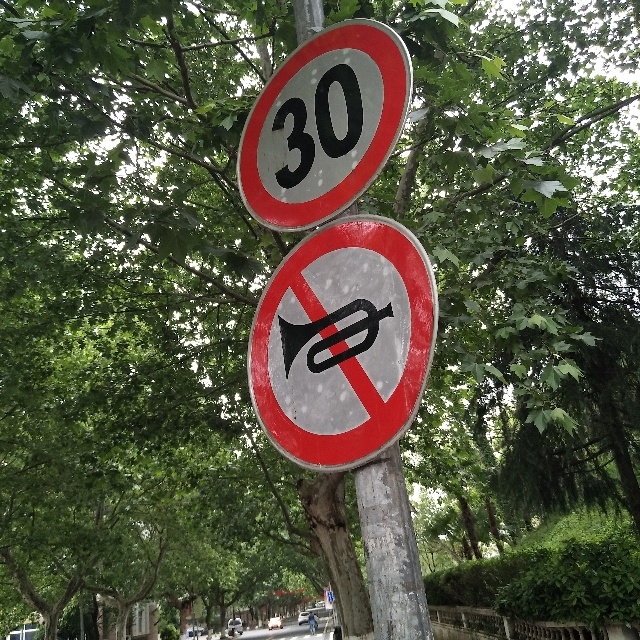nohonk: (263, 266, 422, 422)
